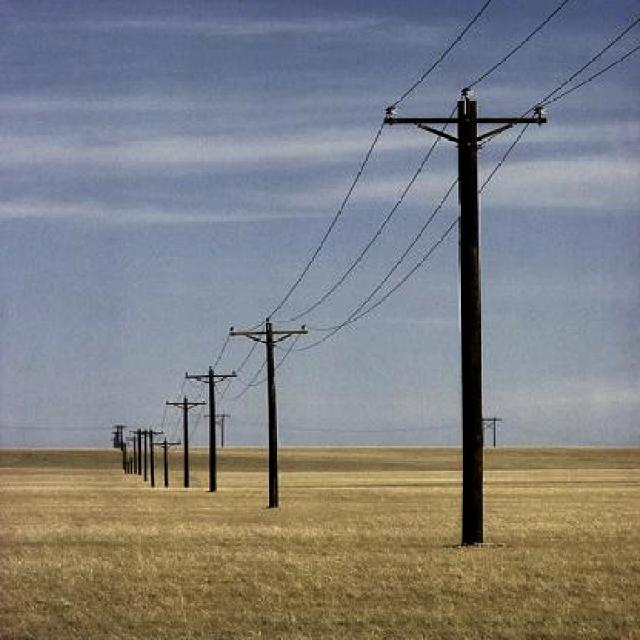crossarm: (384, 100, 548, 126)
pole: (452, 91, 483, 549)
wire: (279, 44, 640, 353), (211, 0, 495, 369), (273, 0, 573, 325), (354, 133, 497, 312), (524, 17, 640, 116)
